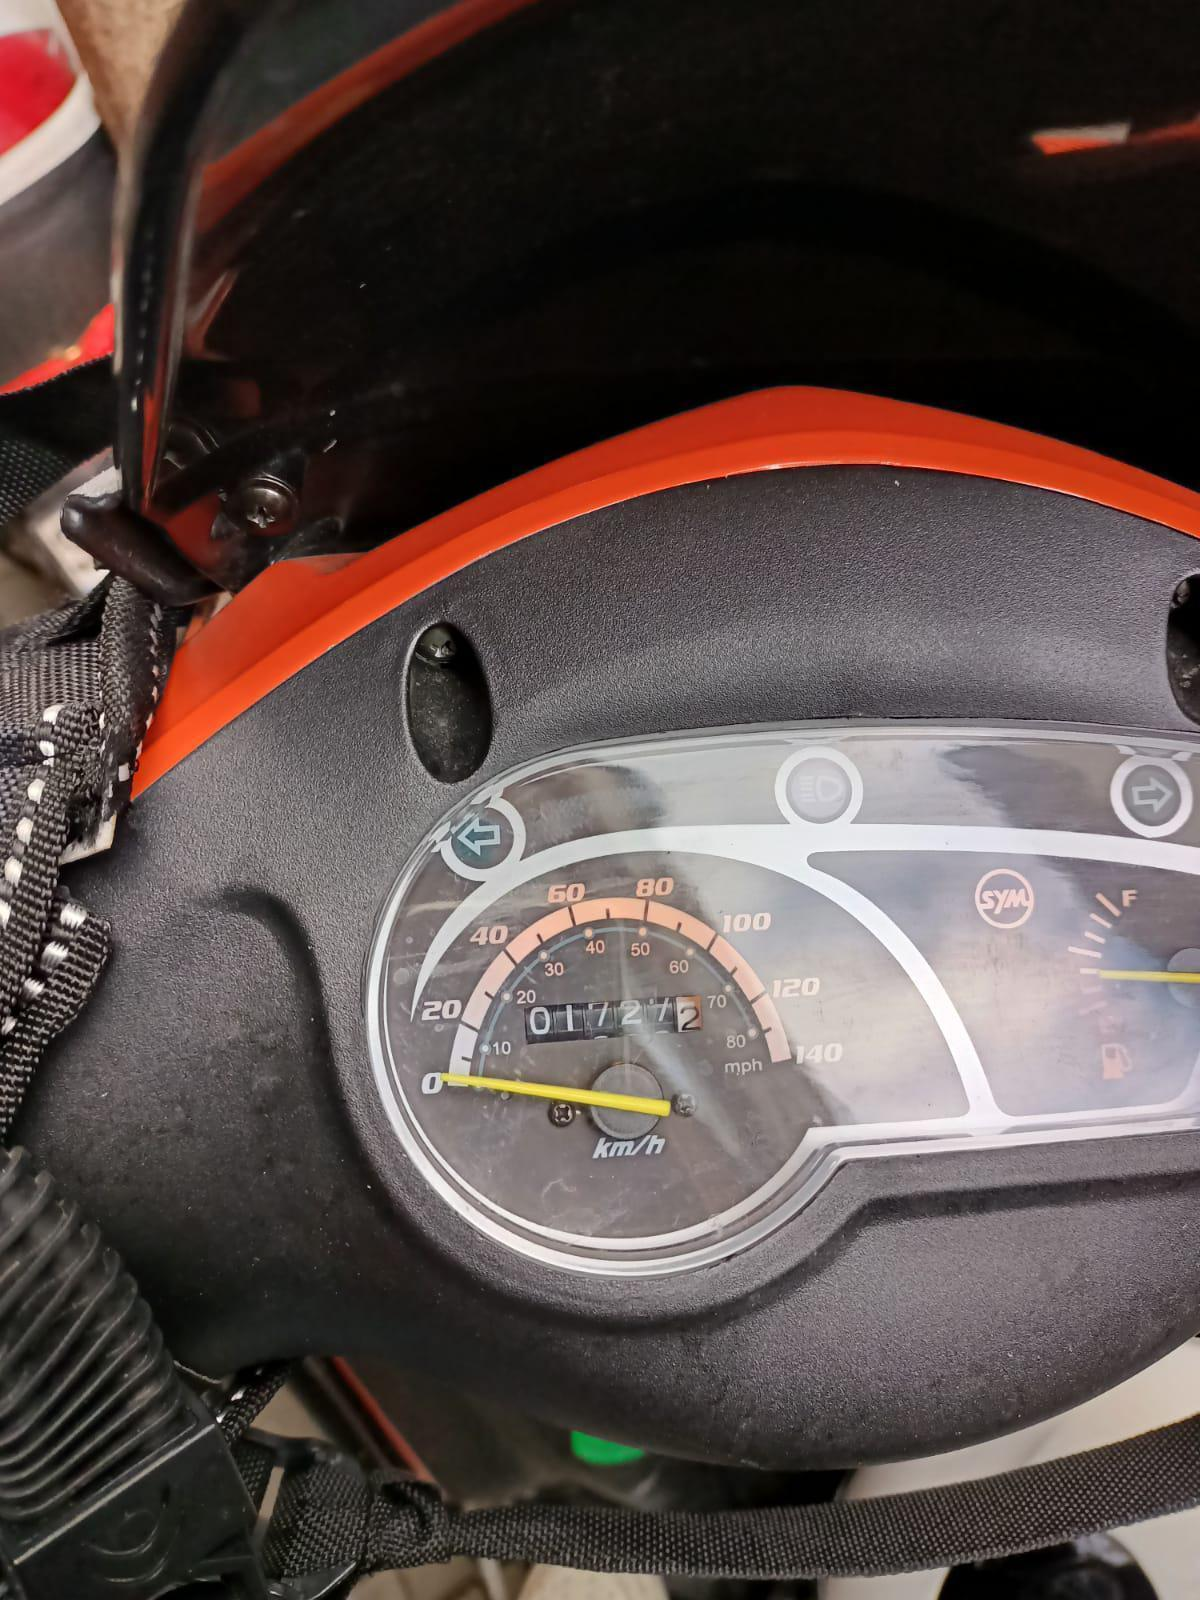0: (529, 1003, 552, 1036), (526, 988, 537, 1004)
1: (561, 1000, 579, 1034)
2: (677, 1003, 705, 1034), (618, 998, 644, 1027)
7: (586, 997, 611, 1027), (648, 994, 671, 1024)
odometer: (522, 993, 705, 1044)
